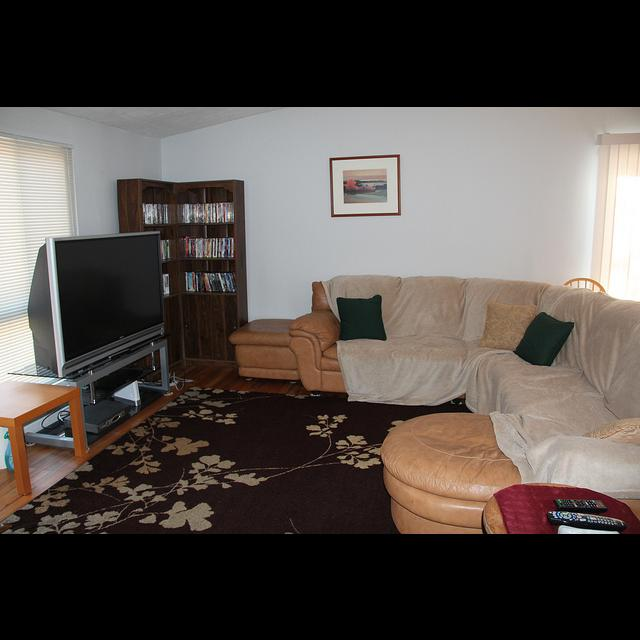Flat-Panel-TV: (27, 232, 165, 381)
TV-Remote-Control: (547, 510, 628, 530), (553, 497, 608, 512)
